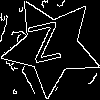Z: (26, 21, 66, 73)
